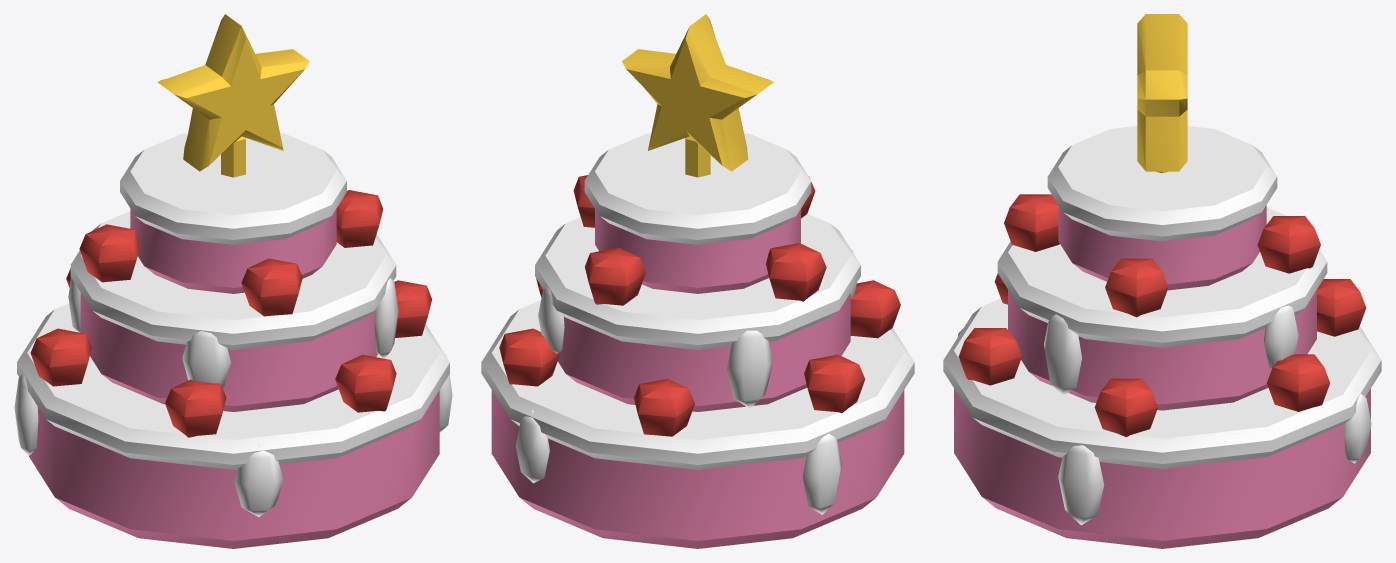
File: Food_festival_cake.glb
3 renders of one model, left to right at view 1: azimuth 30°, elevation 25°; view 2: azimuth 150°, elevation 25°; view 3: azimuth 270°, elevation 25°, orthographic.
Parts seen in each view (by area): view 1: Icing_FFFFFF, Pink_FF8FC0, Strawberry_E0453C, Star_FFD23F; view 2: Icing_FFFFFF, Pink_FF8FC0, Strawberry_E0453C, Star_FFD23F; view 3: Icing_FFFFFF, Pink_FF8FC0, Strawberry_E0453C, Star_FFD23F.
Part boxes in pixels (left/top/right/bottom): Icing_FFFFFF: left=14, top=133, right=452, bottom=516; Pink_FF8FC0: left=29, top=209, right=439, bottom=548; Strawberry_E0453C: left=30, top=190, right=432, bottom=437; Star_FFD23F: left=157, top=14, right=309, bottom=177; Icing_FFFFFF: left=481, top=133, right=914, bottom=514; Pink_FF8FC0: left=491, top=209, right=904, bottom=548; Strawberry_E0453C: left=499, top=175, right=900, bottom=436; Star_FFD23F: left=622, top=14, right=773, bottom=177; Icing_FFFFFF: left=943, top=126, right=1381, bottom=525; Pink_FF8FC0: left=954, top=205, right=1370, bottom=548; Strawberry_E0453C: left=958, top=194, right=1366, bottom=437; Star_FFD23F: left=1137, top=14, right=1187, bottom=173.
Bounding box in the file's own units: 2.1 × 2.4 × 2.1.
